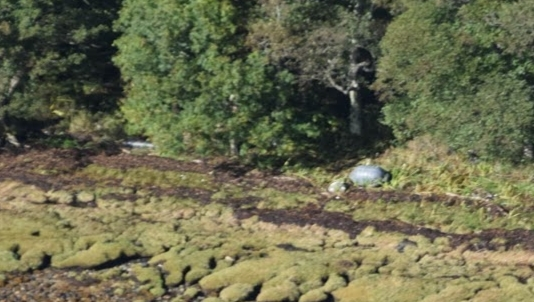tube: (115, 133, 161, 153)
white_in_green: (329, 139, 408, 207)
